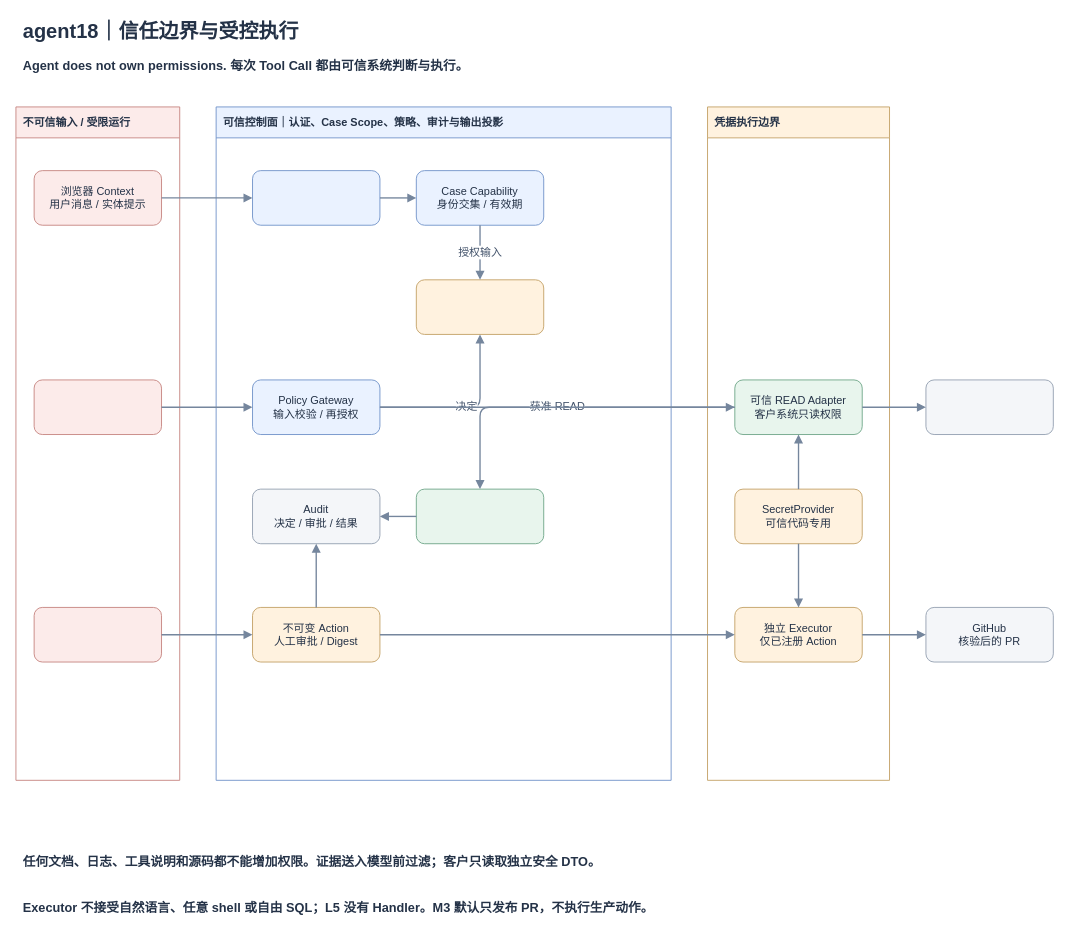
The diagram is 1069 pixels wide and 941 high, and some of its shapes have lost their labels. The shapes that lost their labels are listed below. From the top down, each one's centre as x and y in pixels, then its label:
At pixel 316 197: "验证 Token / OIDC Project / Tenant 绑定".
At pixel 479 306: "OPA ALLOW / DENY / 待审批".
At pixel 97 407: "Agent / Worker 无目标凭据".
At pixel 989 407: "现有业务 / 遥测 后端强制权限".
At pixel 479 516: "Evidence Filter 归属 / 白名单 / 脱敏".
At pixel 97 634: "隔离 Sandbox 源码 / 测试不可信".
